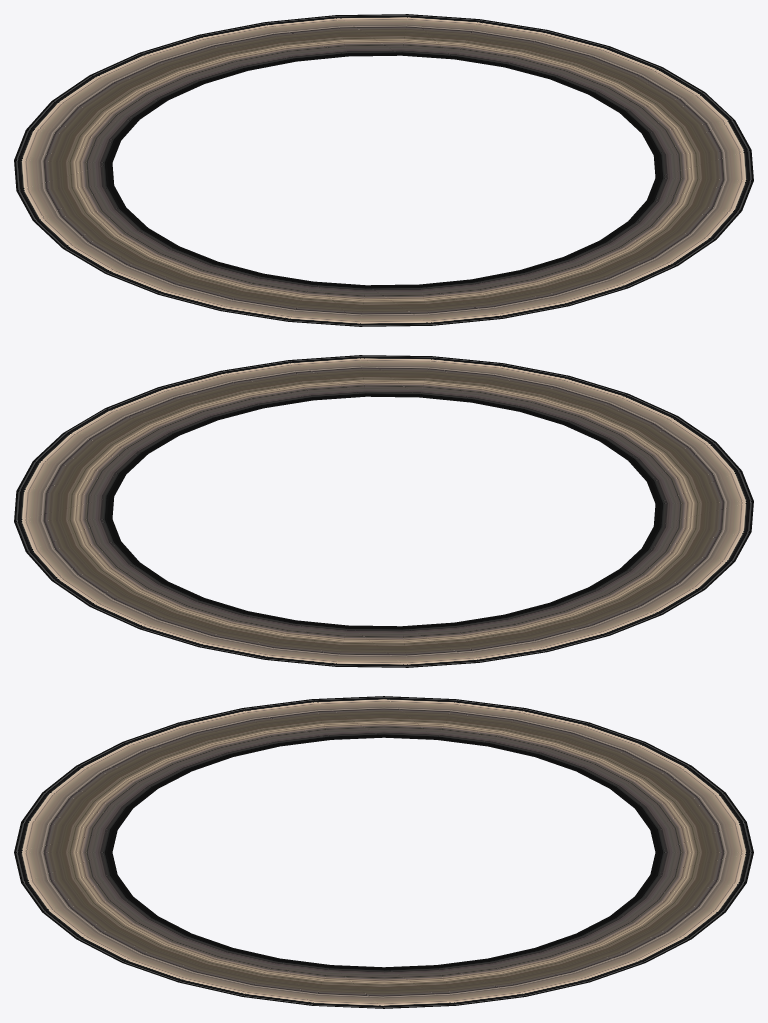
Rendered from saturnRing.gltf.
The picture shows the model from 3 angles, top to bottom: view 1: azimuth 30°, elevation 25°; view 2: azimuth 150°, elevation 25°; view 3: azimuth 270°, elevation 25°; orthographic projection.
Visible parts, largest first — view 1: Circle; view 2: Circle; view 3: Circle.
Part boxes in pixels (x1,y1,x2,y2): Circle: [14, 14, 753, 326]; Circle: [14, 355, 753, 667]; Circle: [14, 696, 753, 1008].
Bounding box in the file's own units: 2.73 × 0 × 2.73.
1 material, 1 textured.
